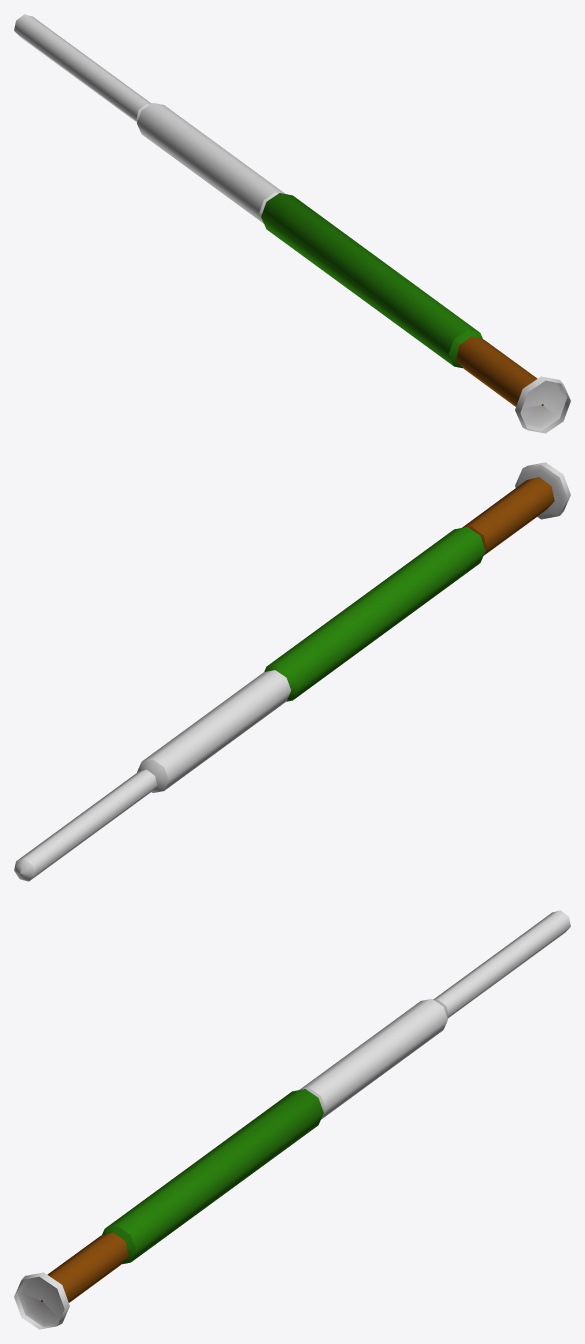
File: Branch.fbx
The picture shows the model from 3 angles, top to bottom: view 1: azimuth 30°, elevation 25°; view 2: azimuth 150°, elevation 25°; view 3: azimuth 330°, elevation 25°; orthographic projection.
Visible parts, largest first — view 1: BranchC, BranchB, BranchA, BranchD; view 2: BranchC, BranchB, BranchA, BranchD; view 3: BranchC, BranchB, BranchA, BranchD.
Boxes of the visible parts, box(x1,y1,x2,y2) form: BranchC: box(261, 193, 543, 406); BranchB: box(137, 103, 285, 223); BranchA: box(14, 14, 151, 122); BranchD: box(515, 376, 570, 433); BranchC: box(264, 477, 554, 701); BranchB: box(137, 670, 291, 792); BranchA: box(14, 769, 157, 881); BranchD: box(515, 462, 570, 519); BranchC: box(41, 1089, 323, 1302); BranchB: box(299, 999, 447, 1119); BranchA: box(433, 910, 570, 1018); BranchD: box(14, 1272, 69, 1329).
Size of the model in its own units: 47.12 by 47.12 by 818.
